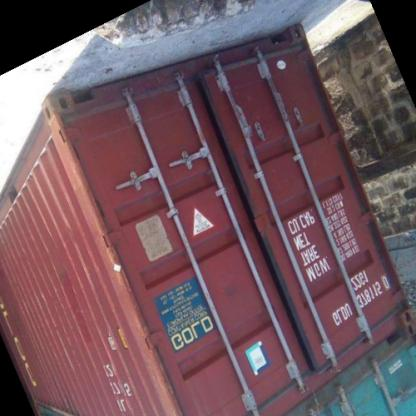Damage: (60, 116, 130, 296), (136, 294, 184, 413)
